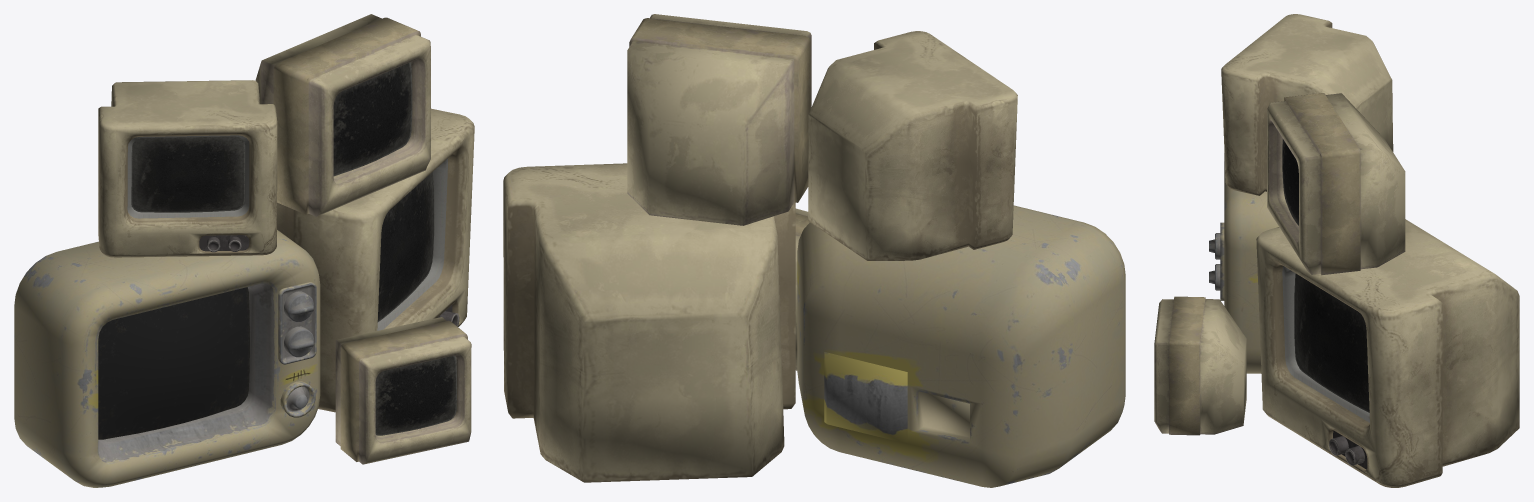
File: 3tvs.glb
3 renders of one model, left to right at view 1: azimuth 30°, elevation 25°; view 2: azimuth 150°, elevation 25°; view 3: azimuth 270°, elevation 25°, orthographic. The views are drawn at different scales.
Visible parts, largest first — view 1: main_tv_body_low, sec_tv_main_low.005, sec_tv_main_low, tetri_tv_main_low, tetri_tv_main_low.006; view 2: sec_tv_main_low, main_tv_body_low, sec_tv_main_low.005, tetri_tv_main_low, tetri_tv_main_low.006; view 3: sec_tv_main_low, tetri_tv_main_low, sec_tv_main_low.005, tetri_tv_main_low.006, main_tv_body_low.
Boxes of the visible parts, <box> form: main_tv_body_low: <box>14,230,320,487</box>; sec_tv_main_low.005: <box>98,80,277,257</box>; sec_tv_main_low: <box>277,108,474,412</box>; tetri_tv_main_low: <box>255,14,430,216</box>; tetri_tv_main_low.006: <box>335,317,471,464</box>; sec_tv_main_low: <box>503,163,795,482</box>; main_tv_body_low: <box>797,205,1125,487</box>; sec_tv_main_low.005: <box>808,31,1017,260</box>; tetri_tv_main_low: <box>627,14,811,225</box>; tetri_tv_main_low.006: <box>795,208,809,370</box>; sec_tv_main_low: <box>1256,219,1519,487</box>; tetri_tv_main_low: <box>1267,93,1405,275</box>; sec_tv_main_low.005: <box>1221,14,1393,195</box>; tetri_tv_main_low.006: <box>1154,296,1246,435</box>; main_tv_body_low: <box>1209,153,1278,373</box>.
Bounding box in the file's own units: 1.69 × 1.11 × 1.23.
2 materials, 2 textured.
